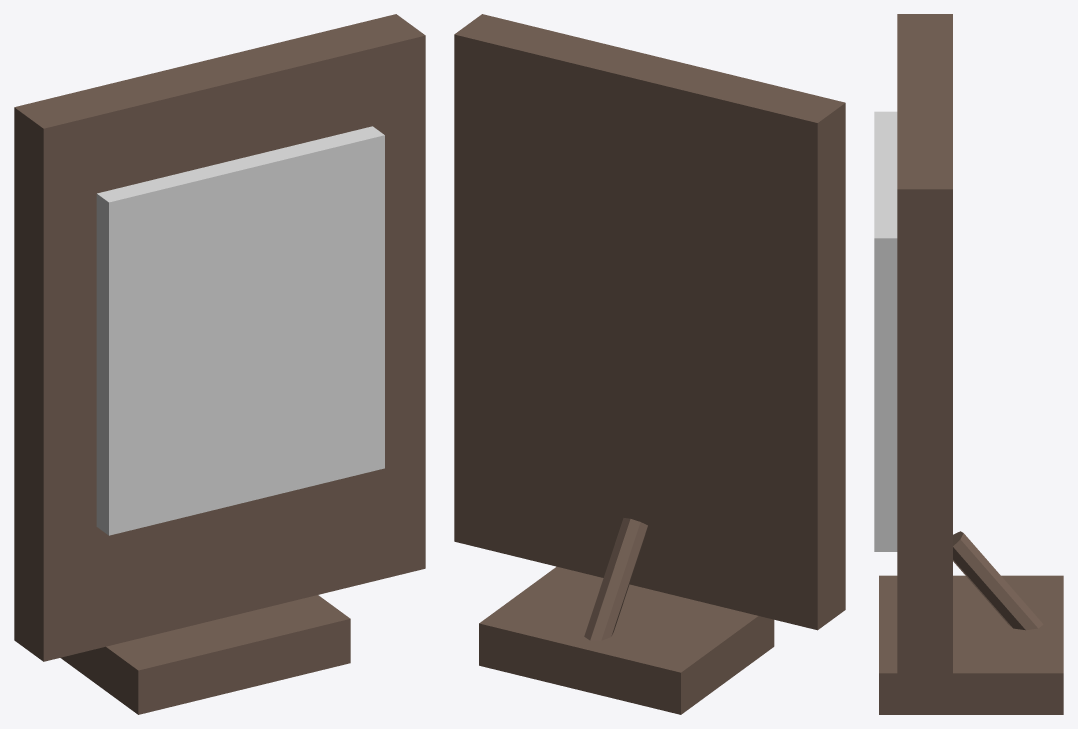
The model's file is trophy_plaque.gltf.
3 renders of one model, left to right at view 1: azimuth 30°, elevation 25°; view 2: azimuth 150°, elevation 25°; view 3: azimuth 270°, elevation 25°, orthographic. The views are drawn at different scales.
Parts seen in each view (by area): view 1: Body; view 2: Body; view 3: Body.
Part boxes in pixels (x1,y1,x2,y2): Body: [14, 14, 425, 714]; Body: [454, 14, 845, 714]; Body: [874, 14, 1063, 714].
Size of the model in its own units: 0.09 by 0.135 by 0.041.
